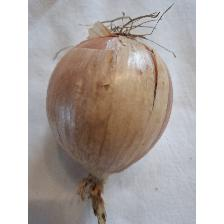Zwiebel: (43, 28, 175, 188)
